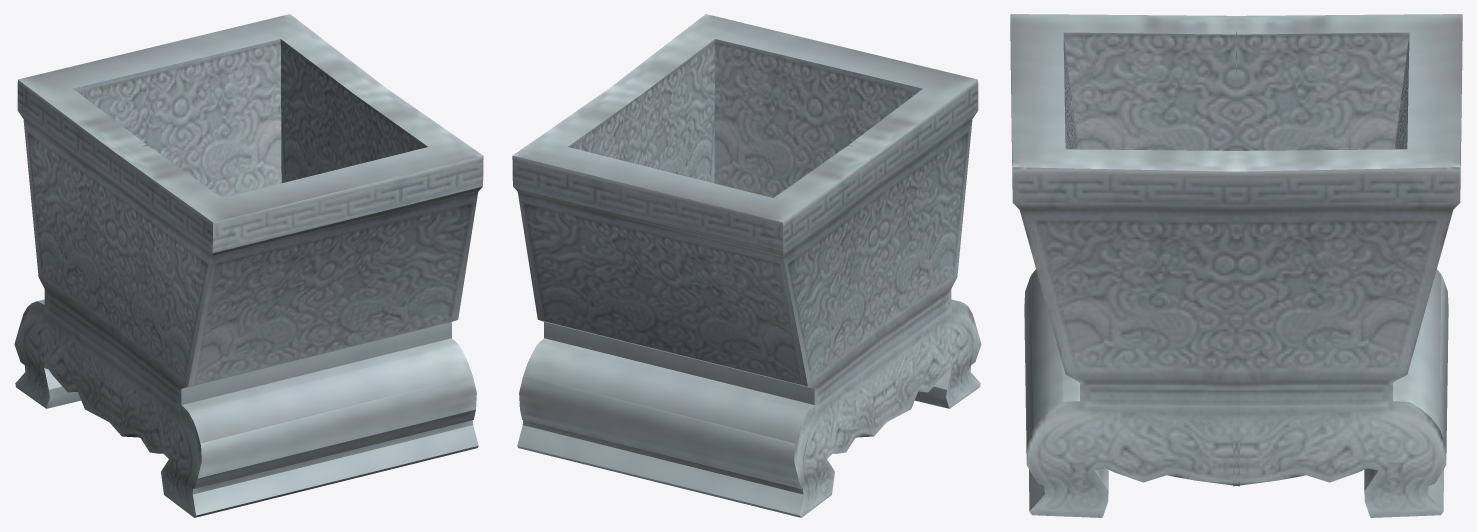
File: luhuong.glb
The picture shows the model from 3 angles, left to right: view 1: azimuth 30°, elevation 25°; view 2: azimuth 150°, elevation 25°; view 3: azimuth 270°, elevation 25°; orthographic projection. The views are drawn at different scales.
Visible parts, largest first — view 1: LưHuong; view 2: LưHuong; view 3: LưHuong.
Boxes of the visible parts, x1=… form: LưHuong: x1=14, y1=14, x2=483, y2=517; LưHuong: x1=512, y1=14, x2=981, y2=517; LưHuong: x1=1010, y1=14, x2=1462, y2=517.
Size of the model in its own units: 1.16 by 1.14 by 1.35.
Materials: 1 (1 with a texture image).
